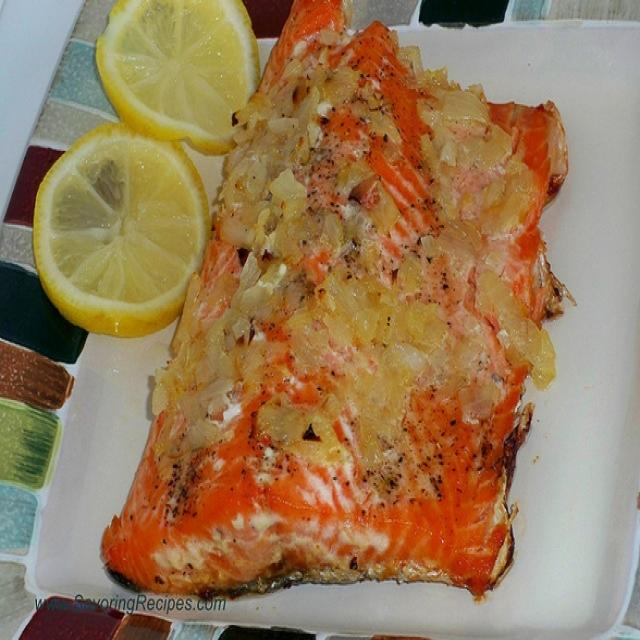熟制海鲜: (34, 12, 602, 617)
